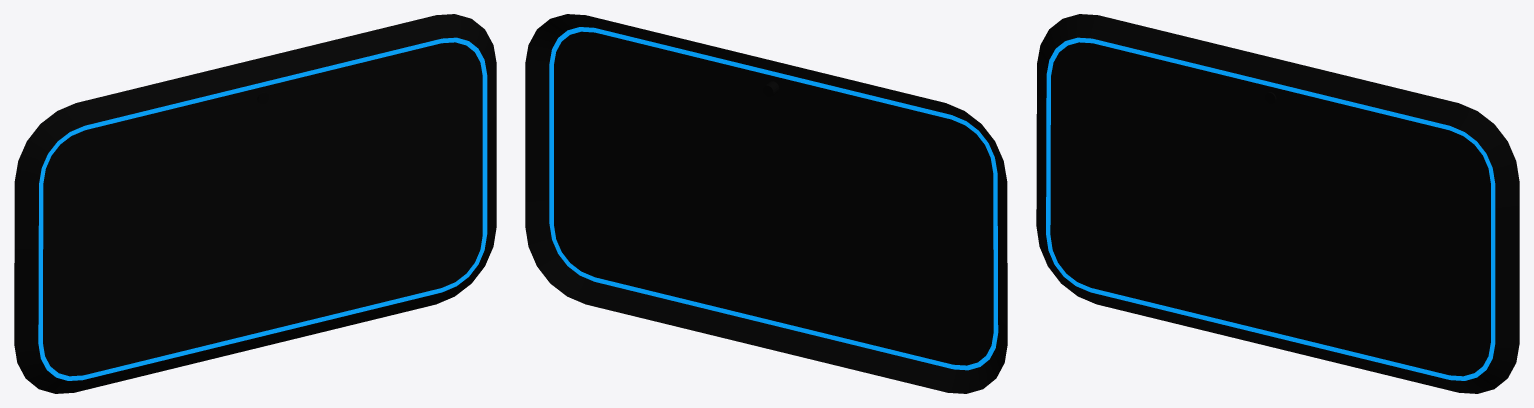
Rendered from intercom.glb.
3 renders of one model, left to right at view 1: azimuth 30°, elevation 25°; view 2: azimuth 150°, elevation 25°; view 3: azimuth 330°, elevation 25°, orthographic.
Visible parts, largest first — view 1: apartment_panel; view 2: apartment_panel; view 3: apartment_panel.
Boxes of the visible parts, x1=… form: apartment_panel: x1=14, y1=14, x2=496, y2=393; apartment_panel: x1=525, y1=14, x2=1007, y2=393; apartment_panel: x1=1036, y1=14, x2=1519, y2=393.
Size of the model in its own units: 0.6176 by 0.3539 by 0.018.
